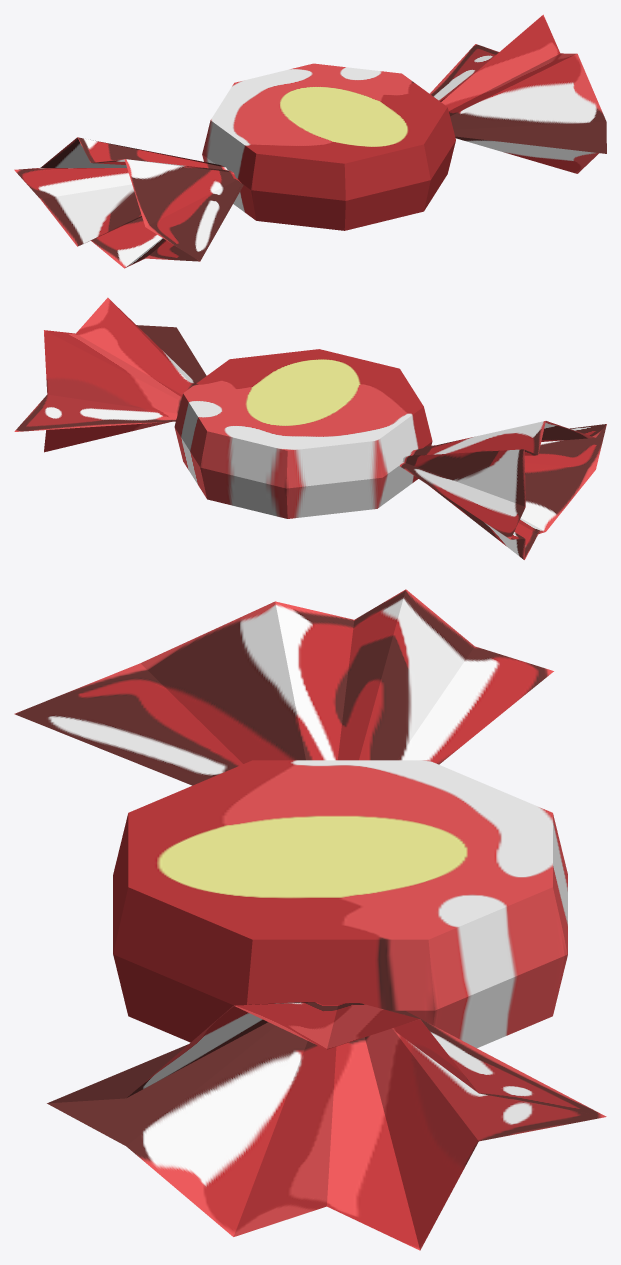
The model's file is candy_06.fbx.
3 renders of one model, top to bottom at view 1: azimuth 30°, elevation 25°; view 2: azimuth 150°, elevation 25°; view 3: azimuth 270°, elevation 25°, orthographic. The views are drawn at different scales.
Parts seen in each view (by area): view 1: candy_06; view 2: candy_06; view 3: candy_06.
Boxes of the visible parts, x1,y1,x2,y2 form: candy_06: (14,14,606,268); candy_06: (14,297,606,559); candy_06: (14,589,606,1250).
Size of the model in its own units: 1.16 by 0.2707 by 0.6281.
